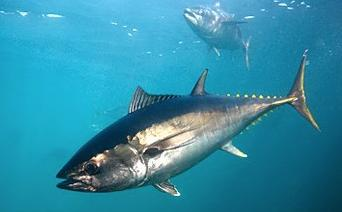Scombridae -Tunas-: (51, 46, 325, 196), (179, 0, 255, 69)
